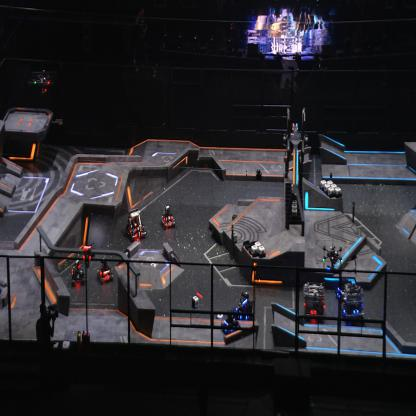car: (341, 282, 365, 326), (302, 282, 326, 322), (232, 289, 254, 325), (125, 207, 147, 240), (219, 308, 240, 337), (96, 253, 113, 285), (69, 258, 87, 288), (334, 277, 352, 302), (159, 204, 176, 230)
